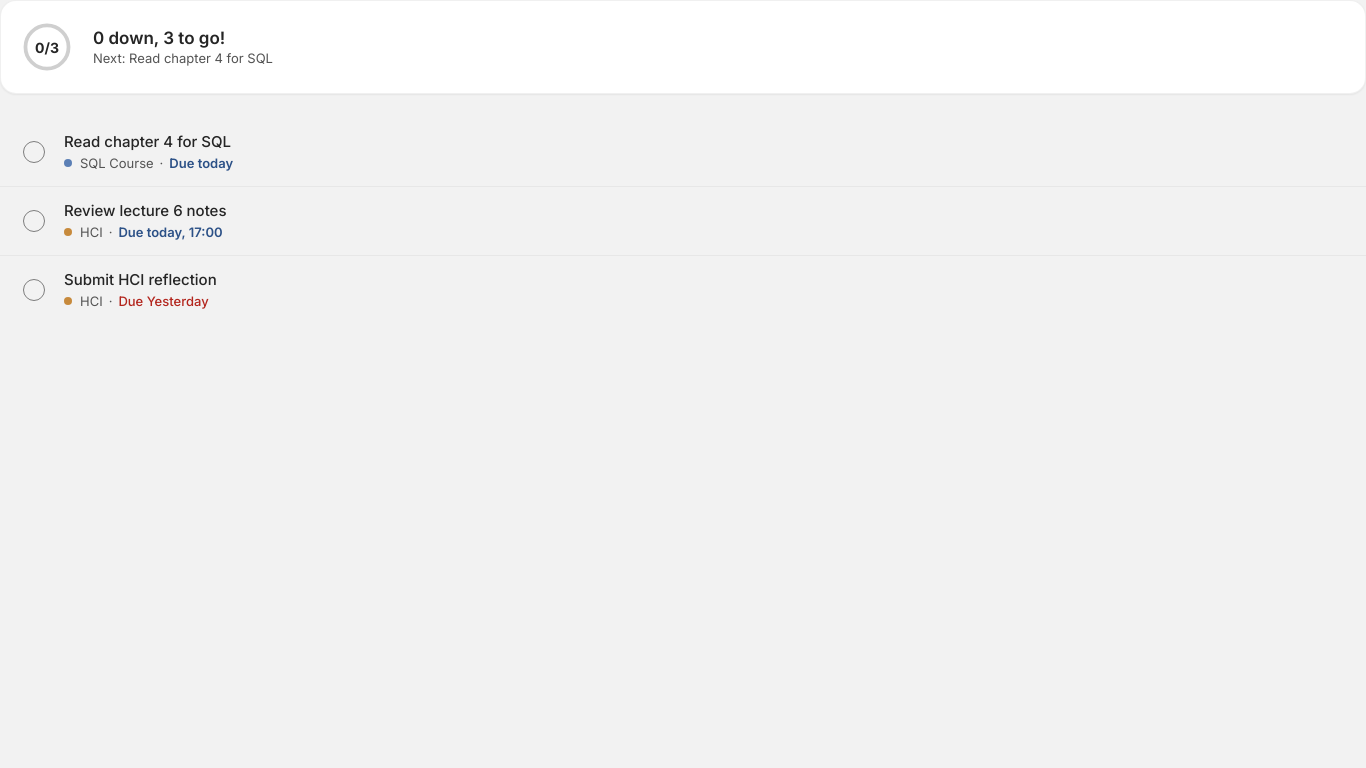
Test case: Complete a task (TK-1, WF-06) › Undo in the toast reopens the task (T-TK-03, UX-05)
Click the checkbox named "Complete Review lecture 6 notes".
click(34, 221)  # box [12,199,56,243]
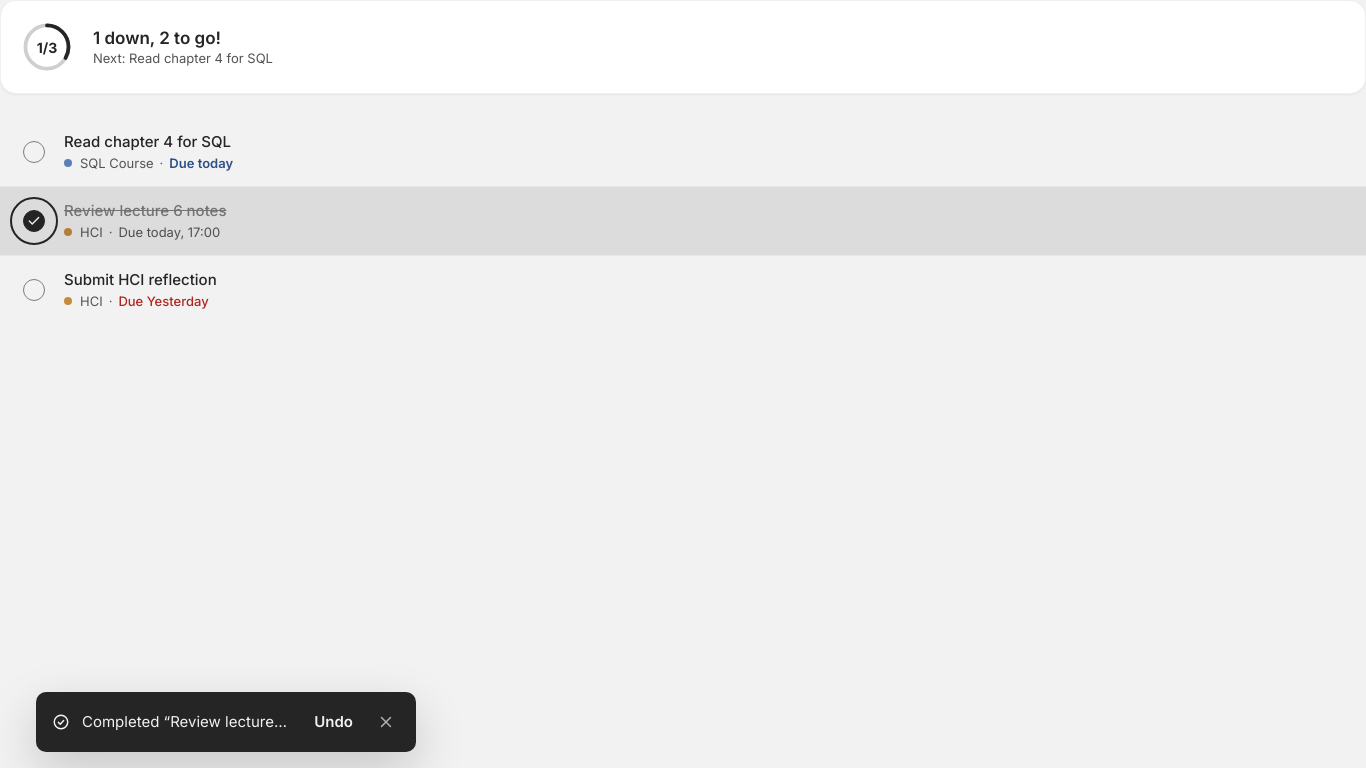
Click the button "Undo".
click(334, 722)  # box [302,700,365,744]
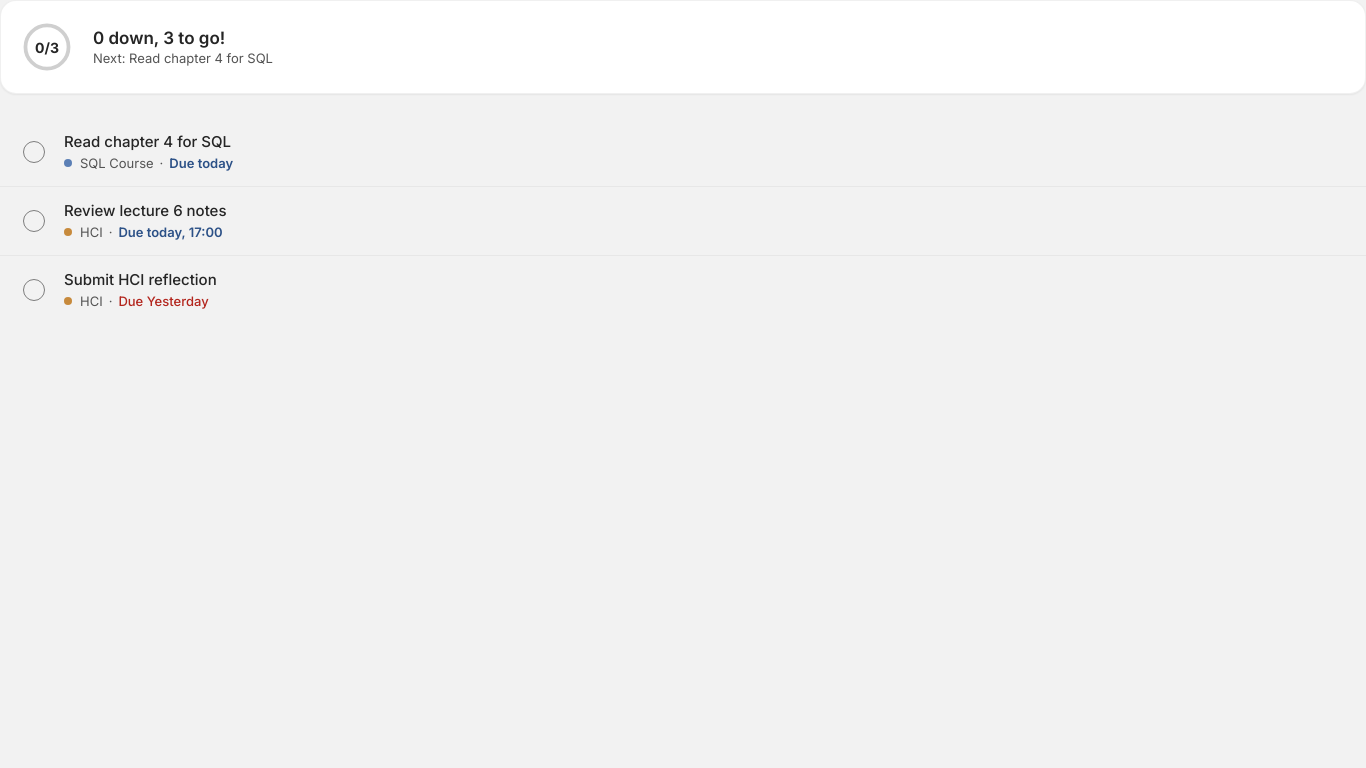
Expected: the checkbox named "Complete Review lecture 6 notes" is shown, [12,199,56,243]
